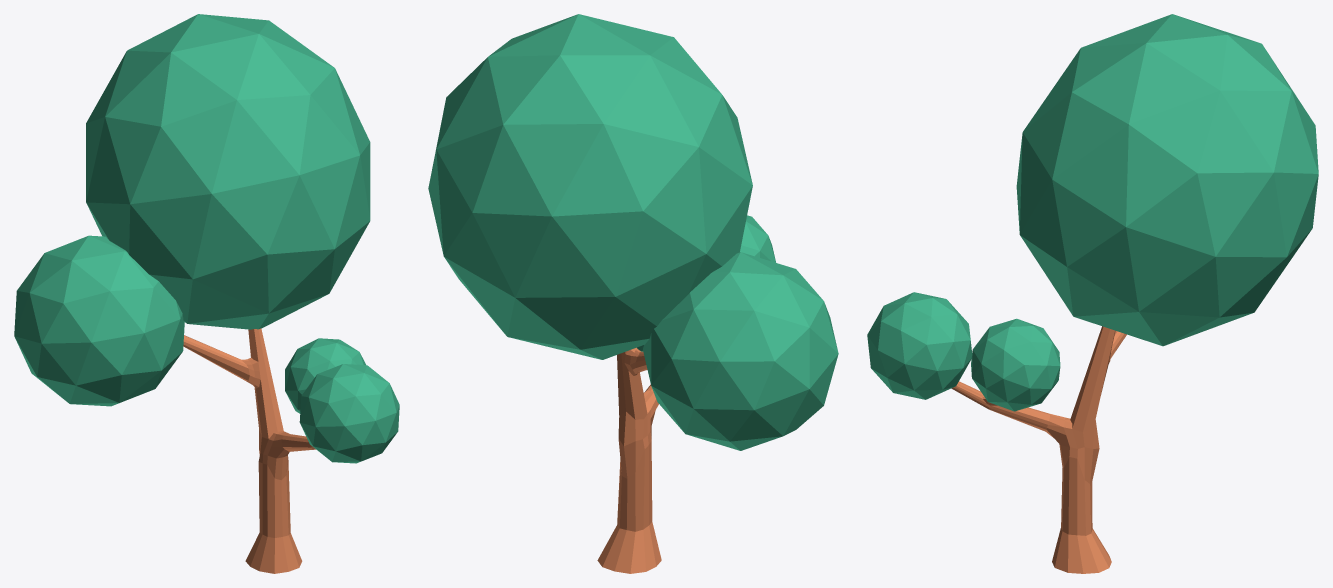
Rendered from tree_2.fbx.
3 views of the same model, side by side, from view 1: azimuth 30°, elevation 25°; view 2: azimuth 150°, elevation 25°; view 3: azimuth 270°, elevation 25° (orthographic). The views are drawn at different scales.
Parts seen in each view (by area): view 1: tree_2; view 2: tree_2; view 3: tree_2.
Part boxes in pixels (x1,y1,x2,y2): tree_2: (14,14,399,573); tree_2: (428,14,838,573); tree_2: (867,14,1318,573).
Size of the model in its own units: 51.04 by 75.01 by 58.28.
